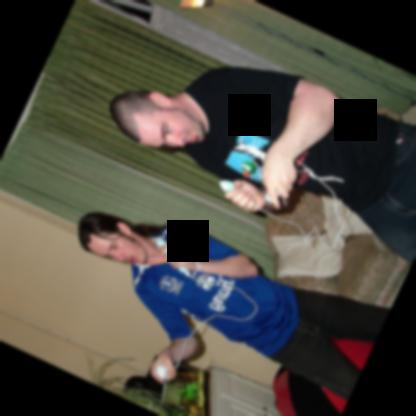backpack: (271, 366, 342, 416)
